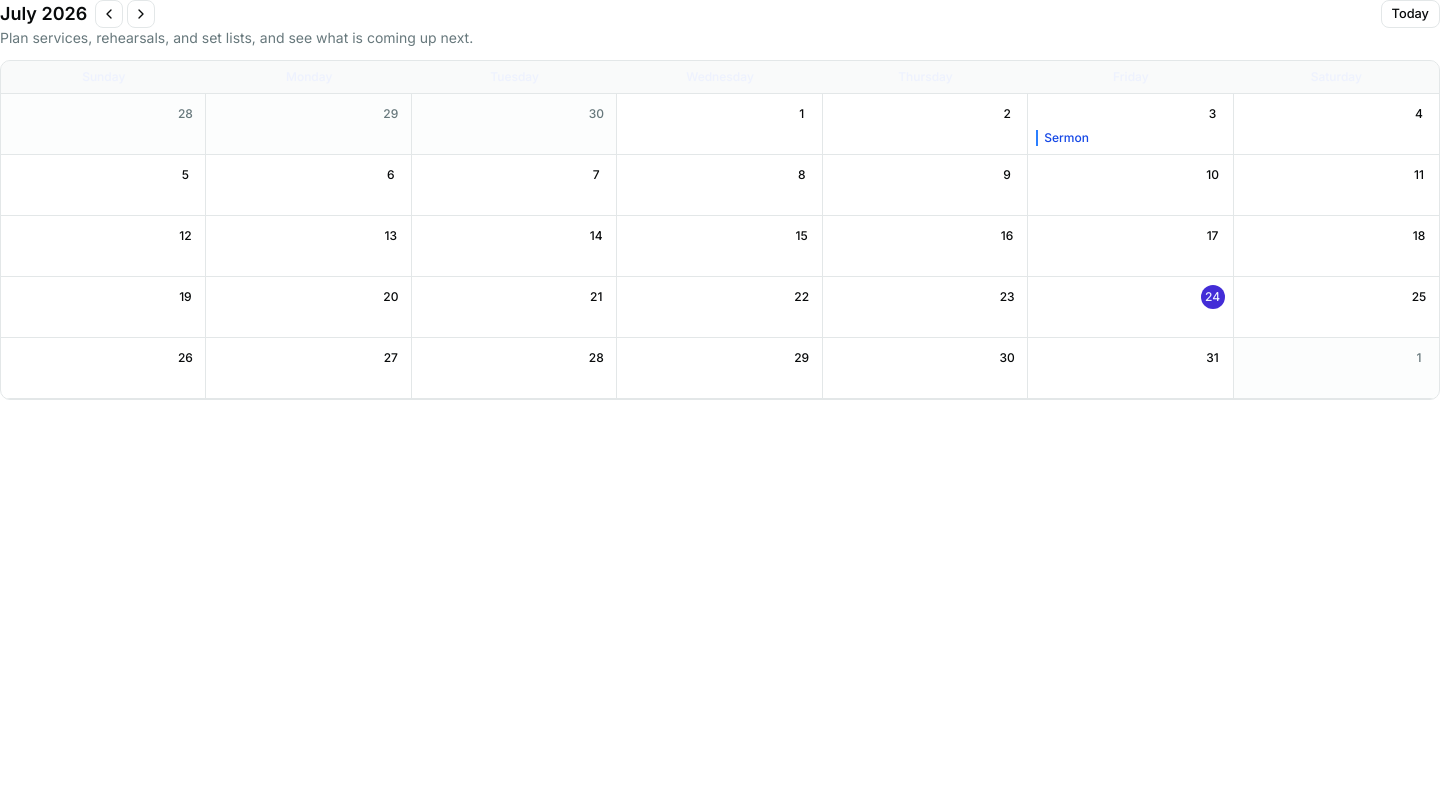
Test: ScheduleCalendar › collapses the popover's roster avatars into a '+N' count past the visible cap
The width and height of the screenshot is (1440, 810).
Click the button "Sermon" at {"x": 1130, "y": 138}, box left=1036, top=130, right=1224, bottom=146
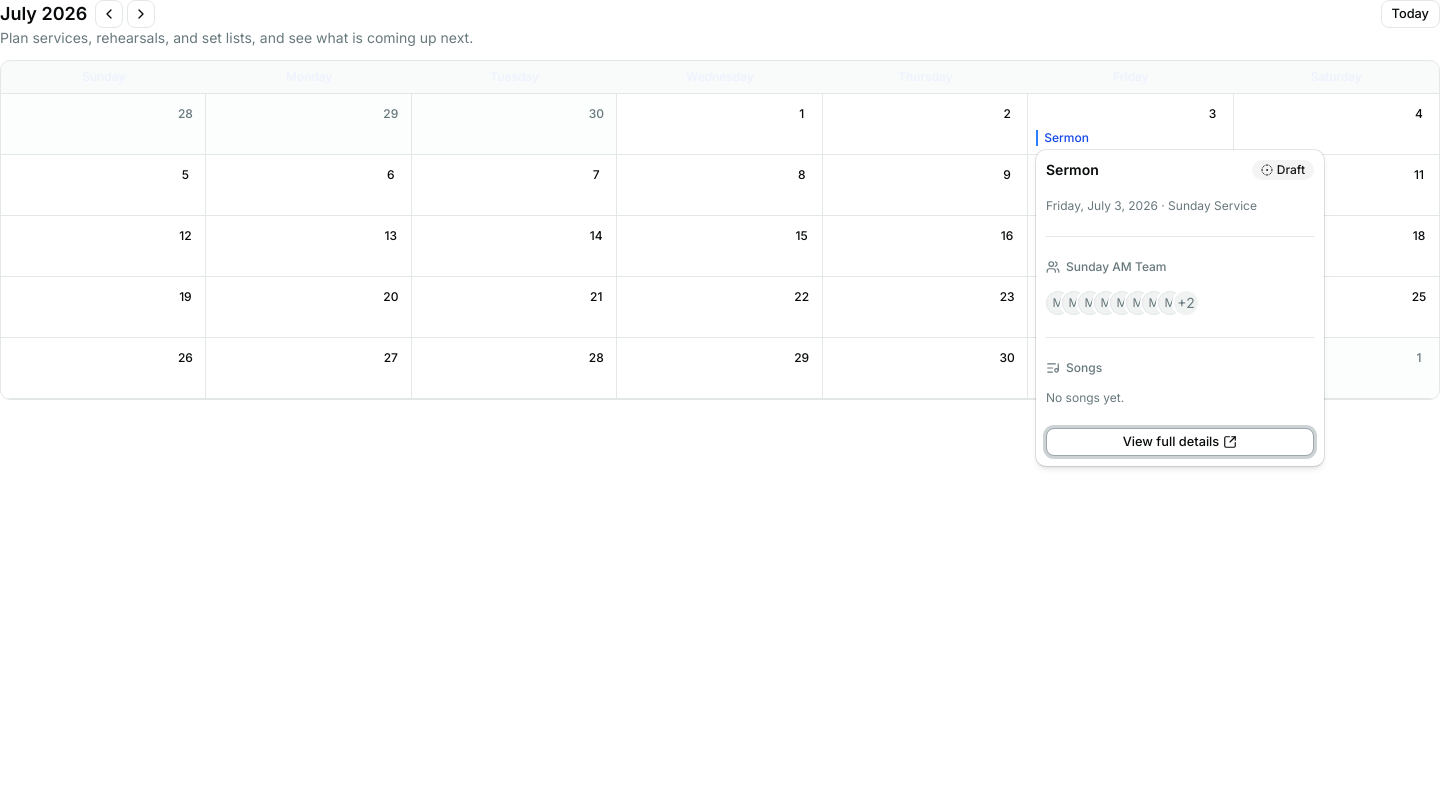
Expected: the text "+2" is shown, left=1174, top=291, right=1198, bottom=315
